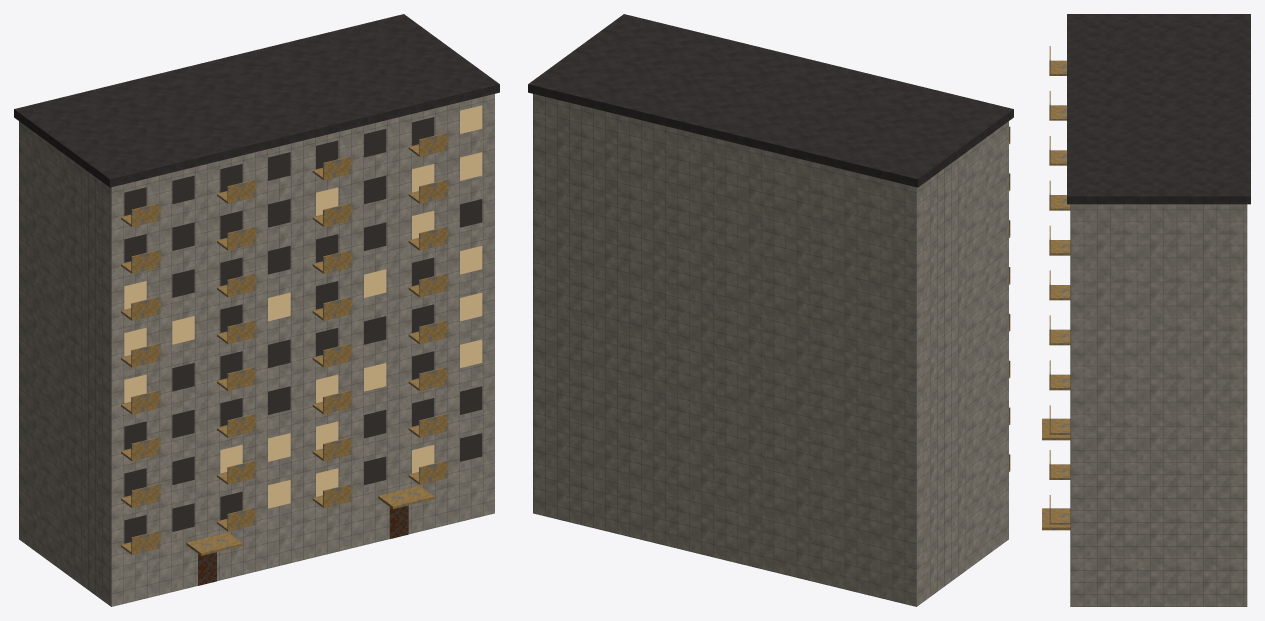
The model's file is panel_house.glb.
3 views of the same model, side by side, from view 1: azimuth 30°, elevation 25°; view 2: azimuth 150°, elevation 25°; view 3: azimuth 270°, elevation 25° (orthographic). The views are drawn at different scales.
Parts seen in each view (by area): view 1: panel_house; view 2: panel_house; view 3: panel_house.
Part boxes in pixels (<box>): panel_house: <box>14,14,499,606</box>; panel_house: <box>528,14,1013,606</box>; panel_house: <box>1042,14,1250,606</box>.
Size of the model in its own units: 24.4 by 25.7 by 11.8.
6 materials, 4 textured.
